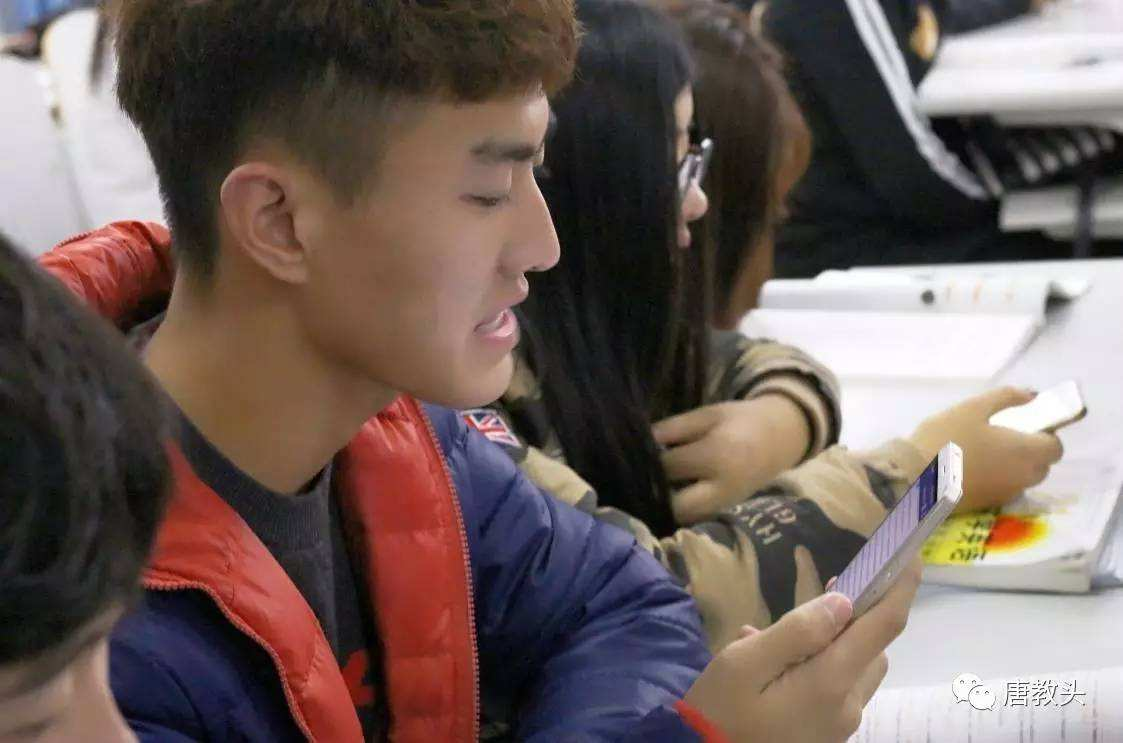Mobile-phone: (822, 440, 963, 611), (992, 379, 1089, 446)
